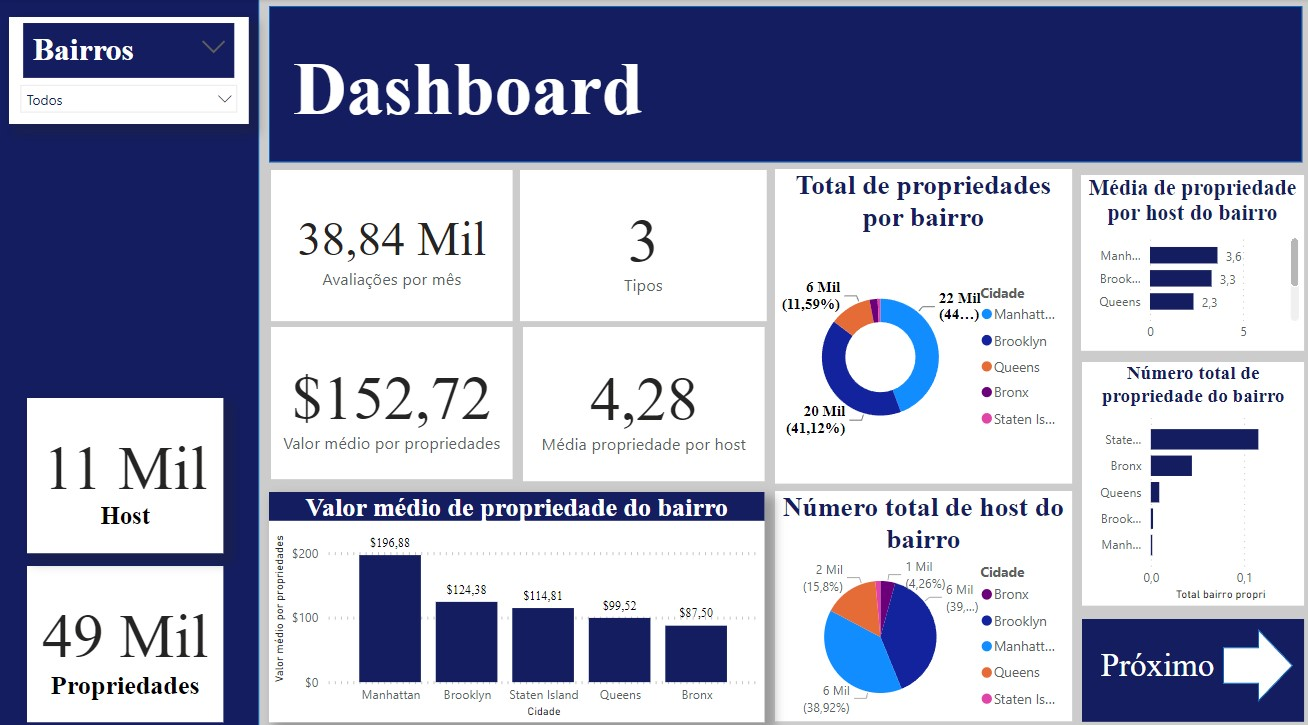

This screenshot's page, from the dashboard's own definition file:
{"tool":"powerbi","page":{"name":"Página 1","canvas":[1280,720],"ordinal":0},"visuals":[{"type":"card","fields":{"Values":["airbnb_nyc_2019.tipos de quarto"]},"box":[506.5,166.1,240.3,146.8],"z":0},{"type":"actionButton","box":[1053.2,603.2,216.1,100],"z":0},{"type":"card","fields":{"Values":["airbnb_nyc_2019.total aval mes"]},"box":[264.5,166.1,235.5,146.8],"z":1000},{"type":"card","fields":{"Values":["airbnb_nyc_2019.Valor Medio"]},"box":[264.5,319.4,235.5,148.4],"z":2000},{"type":"textbox","box":[1058.1,624.2,137.1,59.7],"z":2000},{"type":"card","fields":{"Values":["airbnb_nyc_2019.Media hospedes por propriedade"]},"box":[509.7,319.4,235.5,150],"z":3000},{"type":"donutChart","title":"Total de propriedades por bairro","fields":{"Y":["airbnb_nyc_2019.Propriedades"],"Category":["airbnb_nyc_2019.Cidade"]},"box":[754.3,165.7,288.6,305.7],"z":4000},{"type":"pieChart","title":"Número total de host do bairro","fields":{"Y":["airbnb_nyc_2019.Hospedes"],"Series":["airbnb_nyc_2019.neighbourhood_group"]},"box":[754.3,478.6,288.6,224.3],"z":5000},{"type":"shape","box":[0,0,252.9,721.6],"z":6000},{"type":"clusteredColumnChart","title":"Valor médio de propriedade do bairro","fields":{"Category":["airbnb_nyc_2019.neighbourhood_group"],"Y":["airbnb_nyc_2019.Valor Medio propriedades"]},"box":[262.5,479.2,481.9,223.6],"z":7000},{"type":"clusteredBarChart","title":"Número total de propriedade do bairro","fields":{"Category":["airbnb_nyc_2019.neighbourhood_group"],"Y":["airbnb_nyc_2019.Total bairro propri"]},"box":[1053.2,353.2,216.1,237.1],"z":8000},{"type":"slicer","title":"Bairros","fields":{"Values":["airbnb_nyc_2019.Bairros"]},"box":[9.8,17.6,233.3,103.9],"z":9000},{"type":"clusteredBarChart","title":"Média de propriedade por  host do bairro","fields":{"Category":["airbnb_nyc_2019.neighbourhood_group"],"Y":["airbnb_nyc_2019.Media propriedade por  hospedes"]},"box":[1052.8,170.8,216.7,170.8],"z":10000},{"type":"card","fields":{"Values":["airbnb_nyc_2019.COUNT"]},"box":[27.1,551.8,190.6,151.8],"z":11000},{"type":"card","fields":{"Values":["airbnb_nyc_2019.COUNT-Host"]},"box":[27.1,388.2,190.6,150.6],"z":12000},{"type":"shape","box":[1190.3,612.9,67.7,71],"z":12001},{"type":"shape","box":[262.9,6.5,1004.8,151.6],"z":12002},{"type":"textbox","box":[280.6,41.9,364.5,127.4],"z":12003}]}

Visuals, with their boxes in screenshot pixels (x1, y1, x2, y2), scaled from the page's 1280x720 canvas onto the 1308x725 screenshot:
card - airbnb_nyc_2019.tipos de quarto: 518, 167, 763, 315
actionButton: 1076, 607, 1297, 708
card - airbnb_nyc_2019.total aval mes: 270, 167, 511, 315
card - airbnb_nyc_2019.Valor Medio: 270, 322, 511, 471
textbox: 1081, 629, 1221, 689
card - airbnb_nyc_2019.Media hospedes por propriedade: 521, 322, 762, 473
"Total de propriedades por bairro" donutChart: 771, 167, 1066, 475
"Número total de host do bairro" pieChart: 771, 482, 1066, 708
shape: 0, 0, 258, 724
"Valor médio de propriedade do bairro" clusteredColumnChart: 268, 483, 761, 708
"Número total de propriedade do bairro" clusteredBarChart: 1076, 356, 1297, 594
"Bairros" slicer: 10, 18, 248, 122
"Média de propriedade por  host do bairro" clusteredBarChart: 1076, 172, 1297, 344
card - airbnb_nyc_2019.COUNT: 28, 556, 222, 708
card - airbnb_nyc_2019.COUNT-Host: 28, 391, 222, 543
shape: 1216, 617, 1286, 689
shape: 269, 7, 1295, 159
textbox: 287, 42, 659, 170
